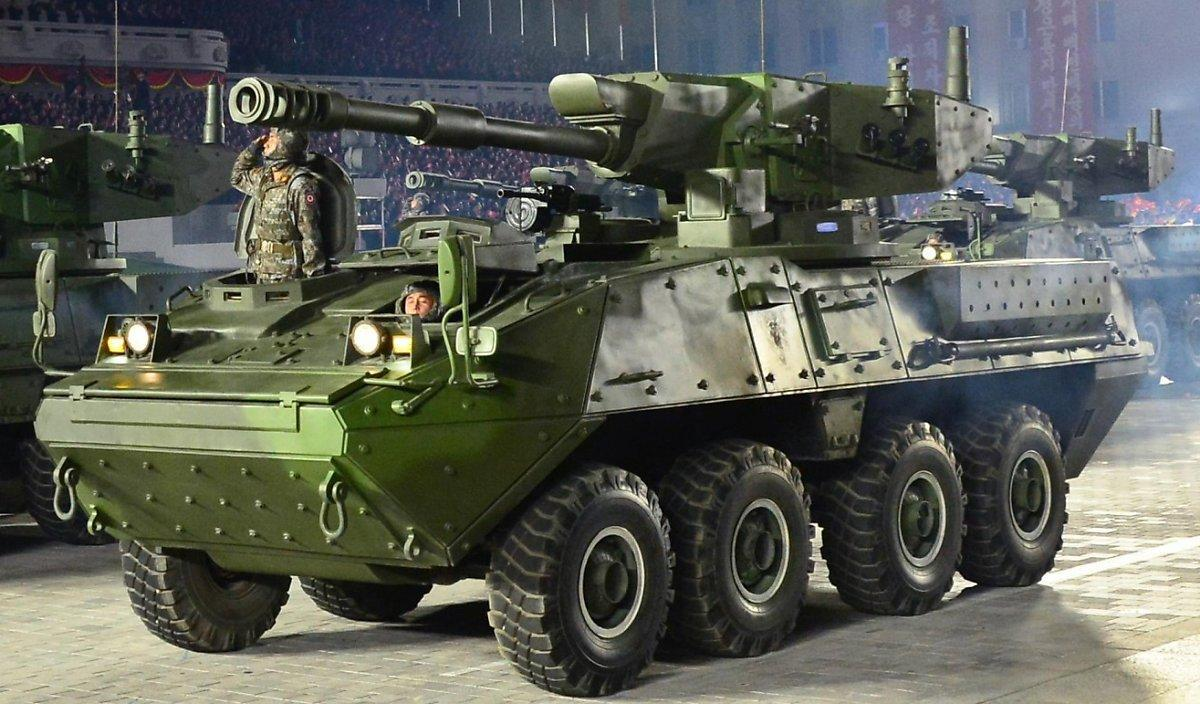MIL_IFV: (33, 21, 1176, 698)
